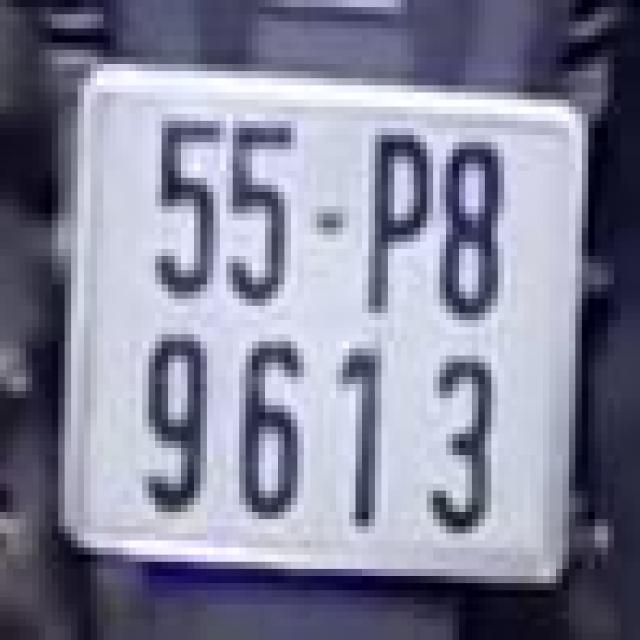1: (327, 338, 391, 537)
3: (420, 342, 504, 548)
5: (136, 114, 226, 313), (223, 118, 301, 310)
6: (233, 320, 310, 533)
8: (443, 132, 520, 338)
9: (139, 327, 217, 526)
P: (359, 124, 436, 330)
